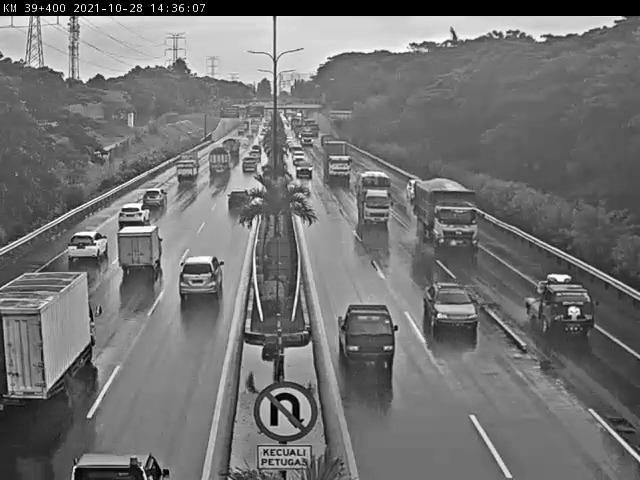big truck: (412, 183, 474, 247), (525, 281, 586, 333), (427, 284, 478, 332), (324, 140, 348, 178), (207, 150, 233, 176), (222, 137, 240, 154)
car: (336, 306, 404, 357), (68, 450, 175, 480), (175, 253, 225, 312), (56, 232, 96, 279), (135, 188, 163, 213), (225, 192, 247, 223), (112, 207, 139, 228), (297, 165, 316, 179), (290, 151, 305, 164), (247, 158, 256, 176), (405, 177, 411, 195), (250, 151, 258, 161)
small truck: (3, 274, 94, 437), (111, 231, 150, 284), (360, 190, 388, 222), (171, 163, 195, 182)
